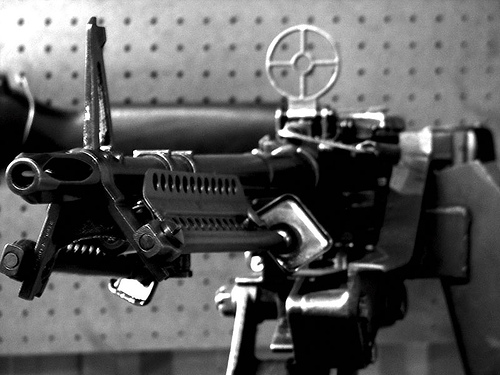rifle: (14, 18, 480, 351)
